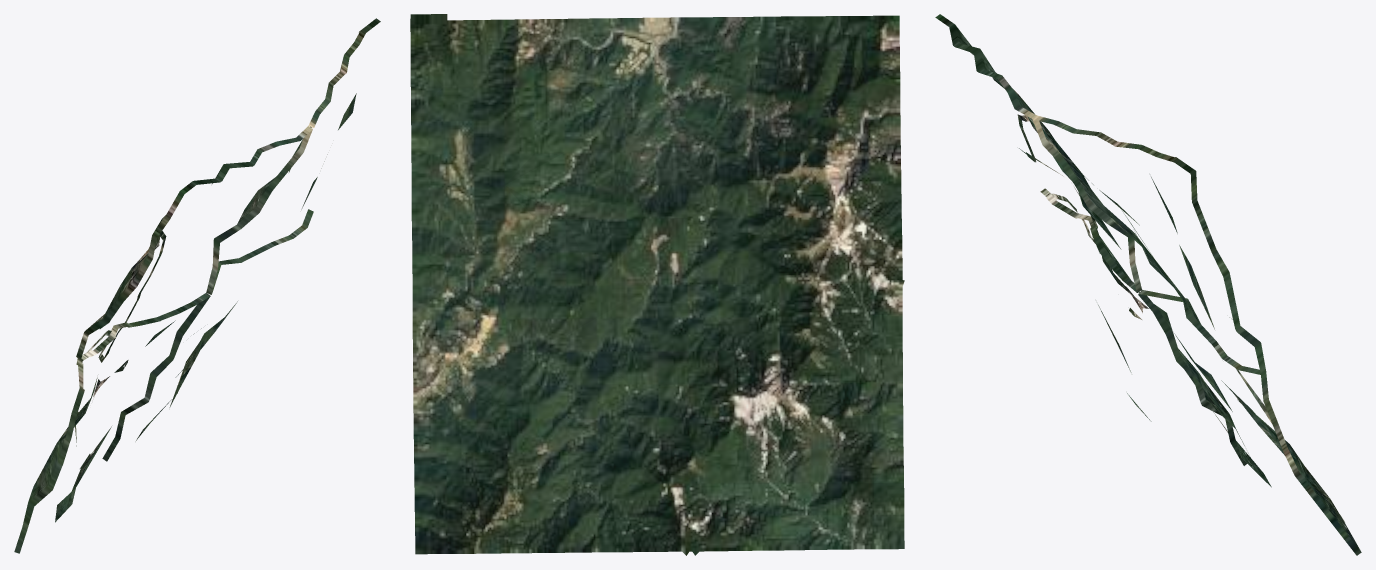
3 renders of one model, left to right at view 1: azimuth 30°, elevation 25°; view 2: azimuth 150°, elevation 25°; view 3: azimuth 270°, elevation 25°, orthographic. The views are drawn at different scales.
Bounding box in the file's own units: 19158 × 18830 × 16508.
Materials: 1 (1 with a texture image).
